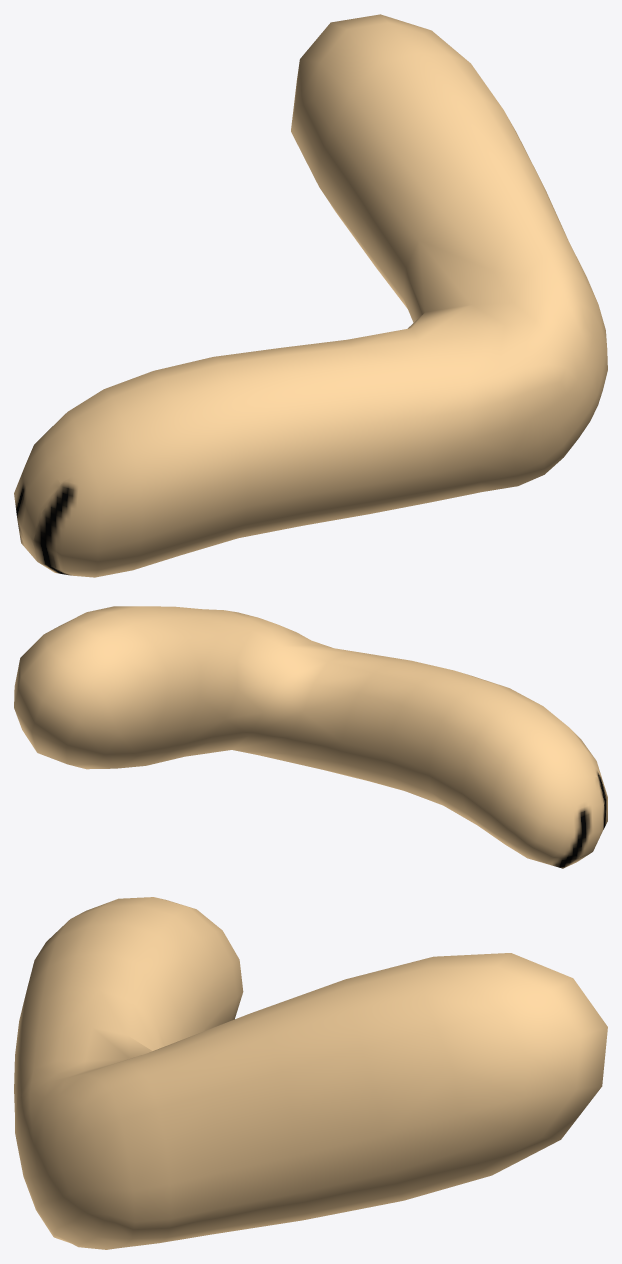
File: Dipper BD.obj
The picture shows the model from 3 angles, top to bottom: view 1: azimuth 30°, elevation 25°; view 2: azimuth 150°, elevation 25°; view 3: azimuth 270°, elevation 25°; orthographic projection. The views are drawn at different scales.
Parts seen in each view (by area): view 1: Brazo_der; view 2: Brazo_der; view 3: Brazo_der.
Boxes of the visible parts, x1=… form: Brazo_der: x1=14, y1=14, x2=607, y2=577; Brazo_der: x1=14, y1=606, x2=607, y2=868; Brazo_der: x1=14, y1=897, x2=607, y2=1249.
Bounding box in the file's own units: 0.7163 × 0.3547 × 0.5797.
